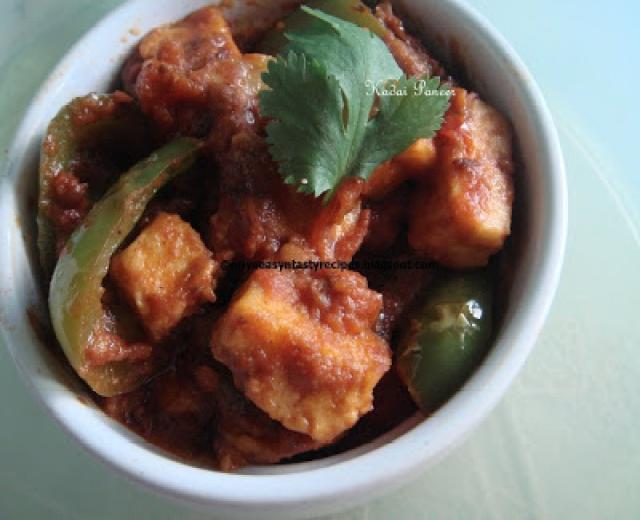kadai paneer: (38, 0, 510, 470)
